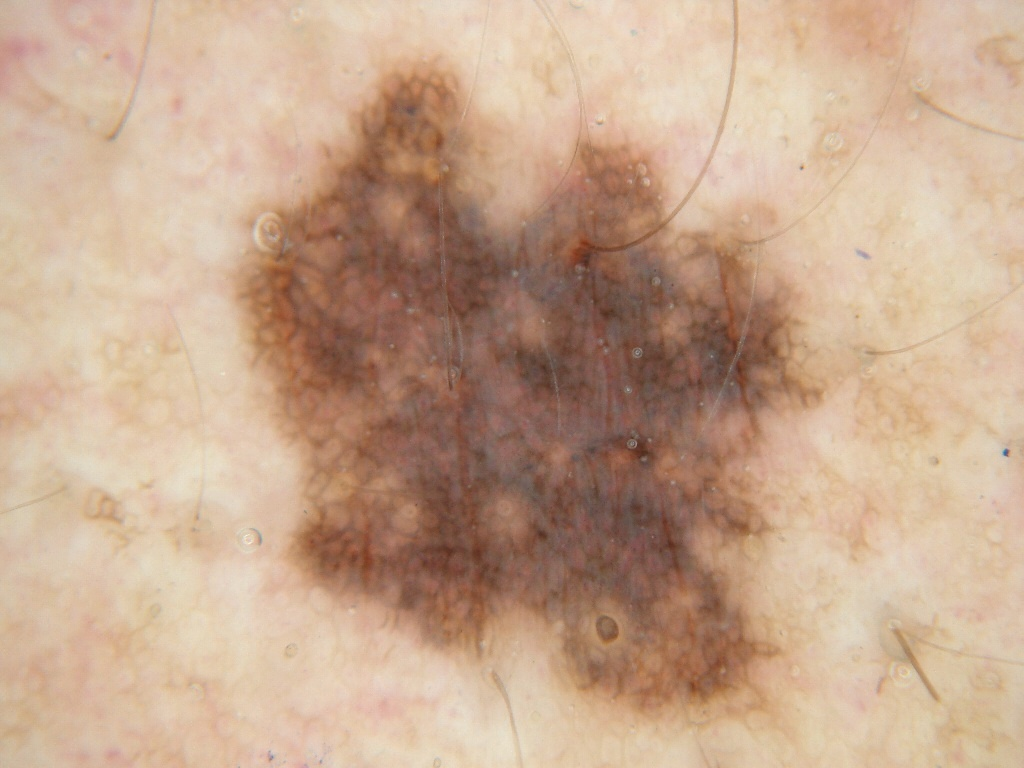Detected Lesion: (232, 57, 827, 730)
